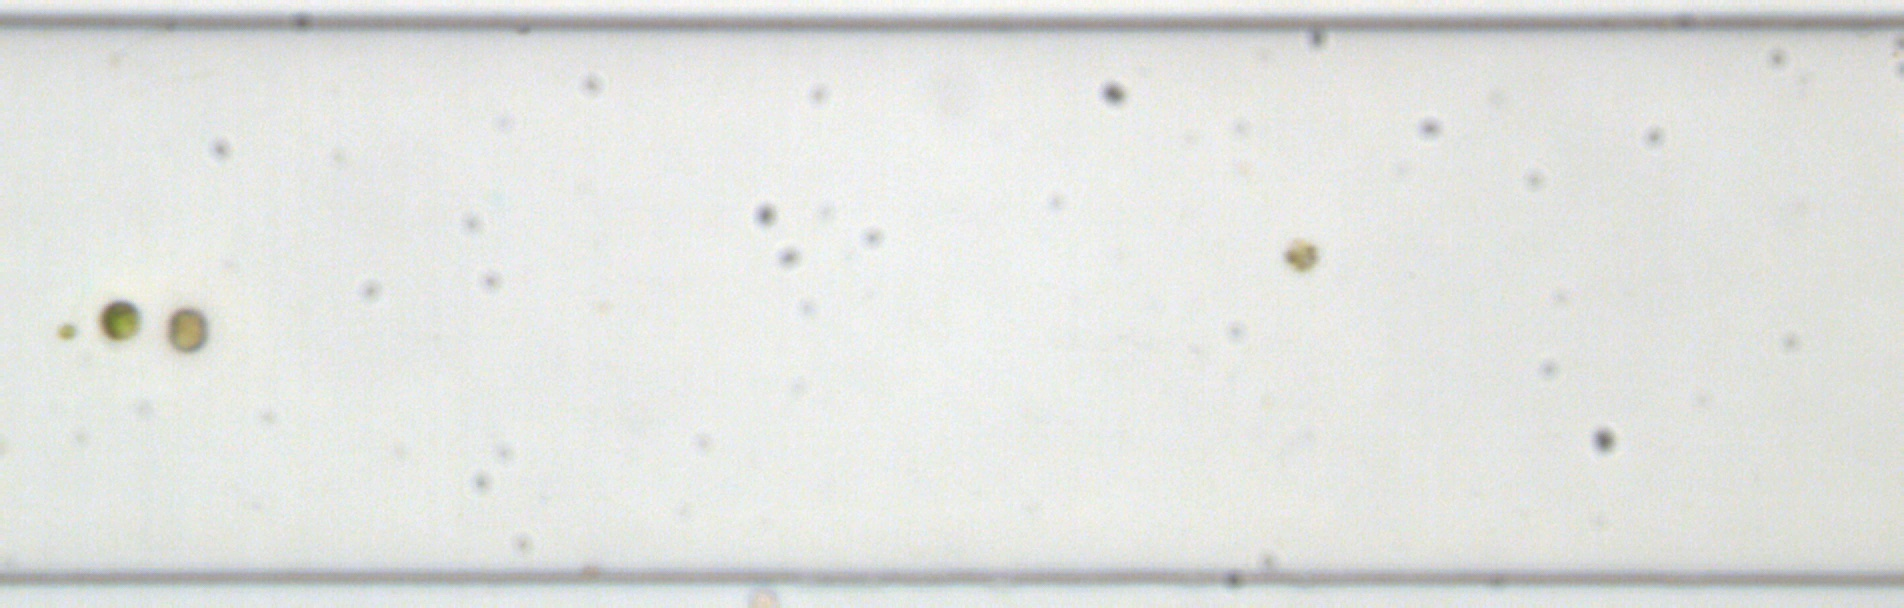Chlorella: (55, 322, 76, 342)
Effrenium: (165, 303, 210, 356), (1283, 237, 1320, 272)
Platymonas: (98, 297, 143, 341)
